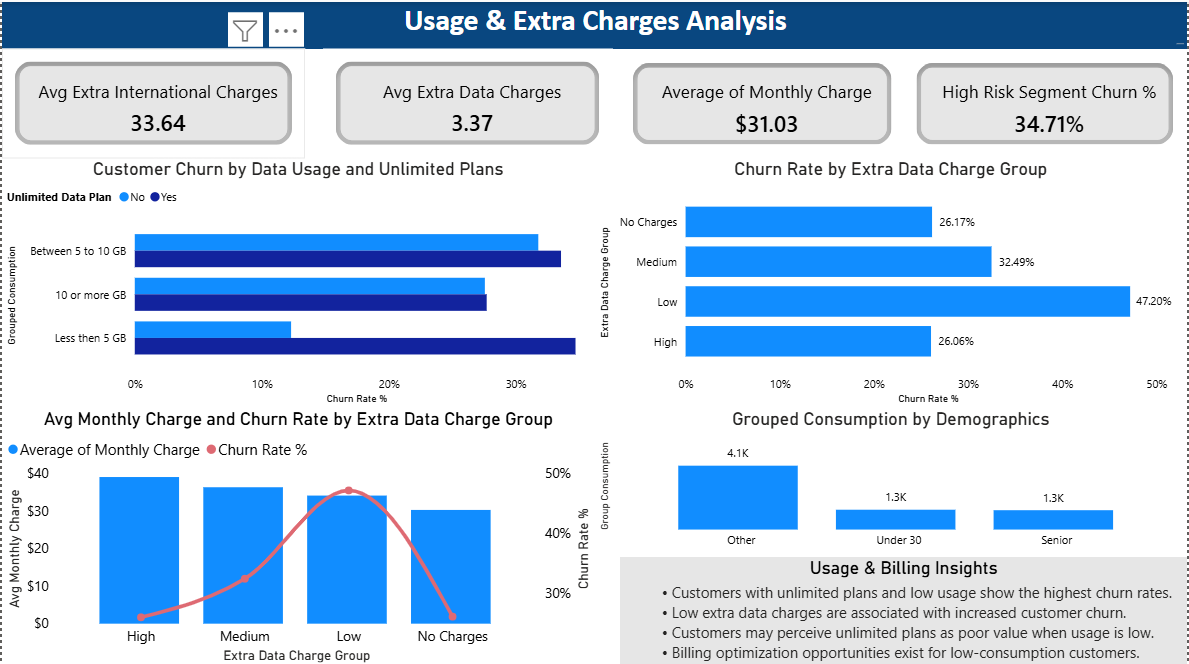

This screenshot's page, from the dashboard's own definition file:
{"tool":"powerbi","page":{"name":"USAGE & EXTRA CHARGES ANALYSIS","canvas":[1280,720],"ordinal":3},"visuals":[{"type":"clusteredBarChart","title":"Customer Churn by Data Usage and Unlimited Plans","fields":{"Y":["calculation.Churn Rate %"],"Category":["Databel - Data.Grouped Consumption"],"Series":["Databel - Data.Unlimited Data Plan"]},"box":[0,168.7,639.7,270.6],"z":0},{"type":"textbox","title":"Usage & Extra Charges Analysis","box":[0,0,1280.8,50.2],"z":1000},{"type":"clusteredBarChart","title":"Churn Rate by Extra Data Charge Group","fields":{"Category":["Databel - Data.Extra Data Charge Group"],"Y":["calculation.Churn Rate %"]},"box":[639.7,168.7,639.7,270.6],"z":2000},{"type":"clusteredColumnChart","title":"Grouped Consumption by Demographics","fields":{"Category":["Databel - Data.Demographics"],"Y":["CountNonNull(Databel - Data.Grouped Consumption)"]},"box":[639.7,439.3,639.7,160.3],"z":3000},{"type":"lineStackedColumnComboChart","title":"Avg Monthly Charge and Churn Rate by Extra Data Charge Group","fields":{"Y":["Avg(Databel - Data.Monthly Charge)"],"Category":["Databel - Data.Extra Data Charge Group"],"Y2":["calculation.Churn Rate %"]},"box":[0,439.3,639.7,278.9],"z":4000},{"type":"cardVisual","title":"Customers","fields":{"Data":["calculation.Avg Extra Data Charges"]},"box":[345.8,50.1,312.3,118.6],"z":5000},{"type":"cardVisual","title":"Customers","fields":{"Data":["Avg(Databel - Data.Monthly Charge)"]},"box":[666.5,51.8,307.3,116.9],"z":6000},{"type":"cardVisual","title":"Customers","fields":{"Data":["calculation.Avg Extra International Charges"]},"box":[0,50.1,327.4,118.6],"z":7000},{"type":"cardVisual","title":"Customers","fields":{"Data":["calculation.High Risk Segment Churn %"]},"box":[973.8,51.8,305.7,116.9],"z":8000},{"type":"textbox","title":"Usage & Billing Insights","box":[666.5,599.6,613,118.6],"z":9000}]}

Visuals, with their boxes in screenshot pixels (x1, y1, x2, y2), scaled from the page's 1280x720 canvas onto the 1189x664 screenshot:
"Customer Churn by Data Usage and Unlimited Plans" clusteredBarChart: bbox=[0, 156, 594, 405]
"Usage & Extra Charges Analysis" textbox: bbox=[0, 0, 1188, 46]
"Churn Rate by Extra Data Charge Group" clusteredBarChart: bbox=[594, 156, 1188, 405]
"Grouped Consumption by Demographics" clusteredColumnChart: bbox=[594, 405, 1188, 553]
"Avg Monthly Charge and Churn Rate by Extra Data Charge Group" lineStackedColumnComboChart: bbox=[0, 405, 594, 662]
"Customers" cardVisual: bbox=[321, 46, 611, 156]
"Customers" cardVisual: bbox=[619, 48, 905, 156]
"Customers" cardVisual: bbox=[0, 46, 304, 156]
"Customers" cardVisual: bbox=[905, 48, 1188, 156]
"Usage & Billing Insights" textbox: bbox=[619, 553, 1188, 662]
